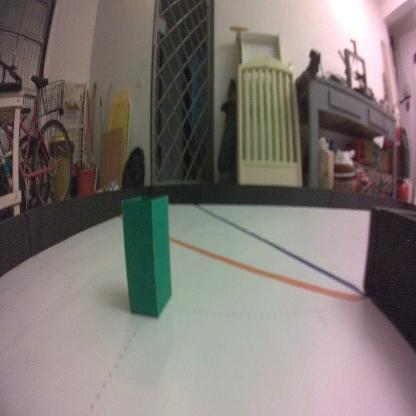green: (119, 190, 176, 321)
